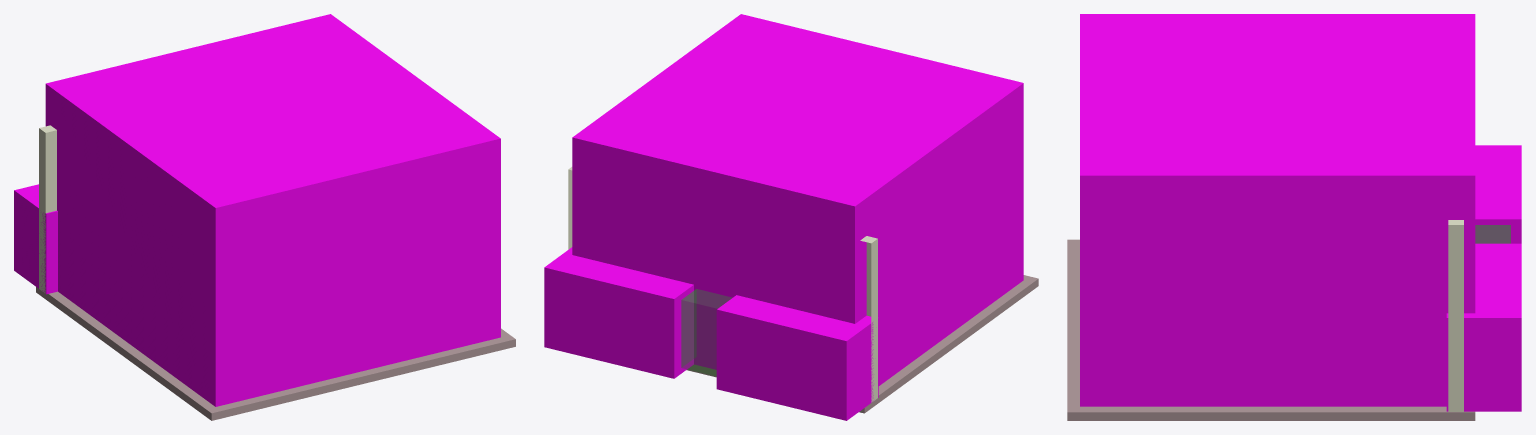
The model's file is demo.glb.
3 renders of one model, left to right at view 1: azimuth 30°, elevation 25°; view 2: azimuth 150°, elevation 25°; view 3: azimuth 270°, elevation 25°, orthographic. The views are drawn at different scales.
Visible parts, largest first — view 1: WORLD_AABB, Ground, InvisibleWall, Wall; view 2: WORLD_AABB, InvisibleWall, InvisibleWall.001, Ground, TriggerCube, Wall; view 3: WORLD_AABB, InvisibleWall.001, Ground, InvisibleWall, Wall, TriggerCube.
Part boxes in pixels (x1=…): WORLD_AABB: x1=45, y1=14, x2=500, y2=406; Ground: x1=36, y1=287, x2=515, y2=420; InvisibleWall: x1=14, y1=184, x2=57, y2=294; Wall: x1=39, y1=125, x2=56, y2=293; WORLD_AABB: x1=572, y1=14, x2=1023, y2=385; InvisibleWall: x1=716, y1=295, x2=878, y2=420; InvisibleWall.001: x1=544, y1=247, x2=693, y2=378; Ground: x1=687, y1=275, x2=1038, y2=413; TriggerCube: x1=681, y1=289, x2=731, y2=375; Wall: x1=568, y1=167, x2=877, y2=402; WORLD_AABB: x1=1080, y1=14, x2=1475, y2=406; InvisibleWall.001: x1=1446, y1=243, x2=1521, y2=411; Ground: x1=1067, y1=239, x2=1475, y2=420; InvisibleWall: x1=1475, y1=145, x2=1521, y2=243; Wall: x1=1448, y1=220, x2=1463, y2=411; TriggerCube: x1=1475, y1=225, x2=1510, y2=243.
Size of what is drawn, in the model's own units: 16.1 by 11 by 17.82.
